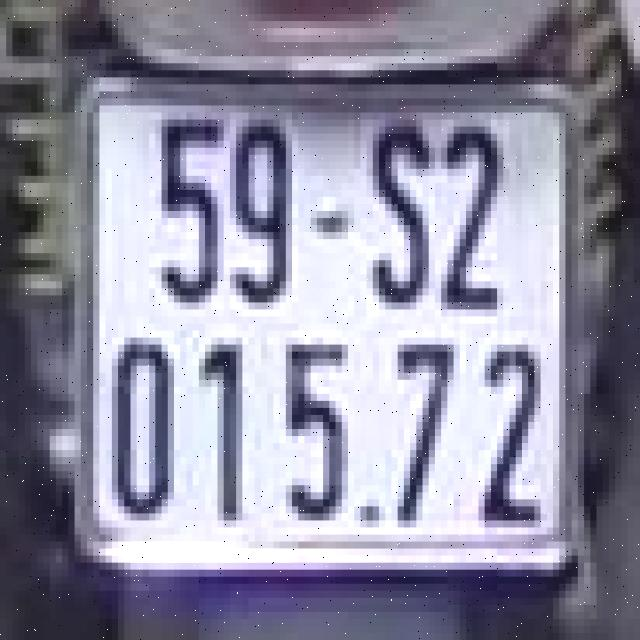0: (112, 334, 180, 531)
1: (190, 327, 276, 524)
2: (476, 334, 562, 538), (435, 109, 509, 320)
5: (274, 330, 360, 534), (152, 106, 227, 316)
7: (388, 330, 469, 528)
9: (227, 98, 320, 310)
S: (364, 102, 438, 313)
